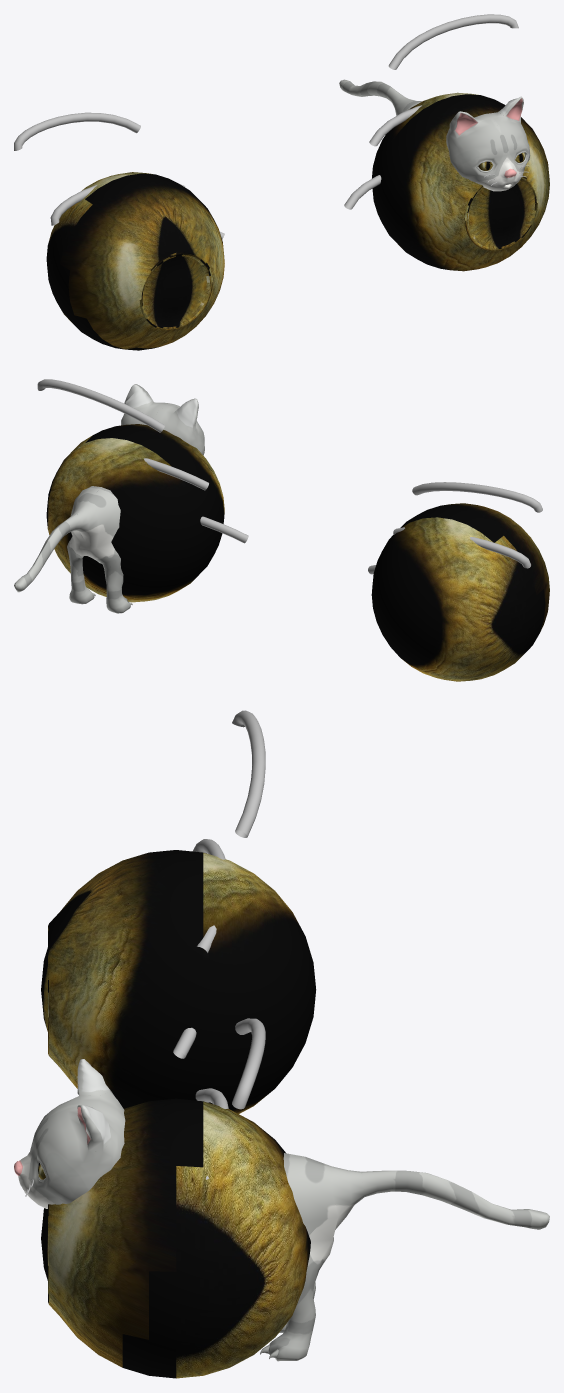
Rendered from walk_cat.glb.
3 views of the same model, one above another, from view 1: azimuth 30°, elevation 25°; view 2: azimuth 150°, elevation 25°; view 3: azimuth 270°, elevation 25° (orthographic). The views are drawn at different scales.
Parts seen in each view (by area): view 1: Eyes, Cat, BézierCurve; view 2: Eyes, Cat, BézierCurve; view 3: Eyes, Cat, BézierCurve.
Part boxes in pixels (x1=…): Eyes: x1=46, y1=92, x2=549, y2=350; Cat: x1=339, y1=79, x2=530, y2=191; BézierCurve: x1=14, y1=14, x2=518, y2=239; Eyes: x1=46, y1=424, x2=549, y2=681; Cat: x1=14, y1=384, x2=204, y2=613; BézierCurve: x1=37, y1=379, x2=542, y2=574; Eyes: x1=41, y1=850, x2=316, y2=1378; Cat: x1=14, y1=1059, x2=549, y2=1361; BézierCurve: x1=173, y1=710, x2=265, y2=1179.
Size of the model in its own units: 6.52 by 2.7 by 3.83.
3 materials, 2 textured.
